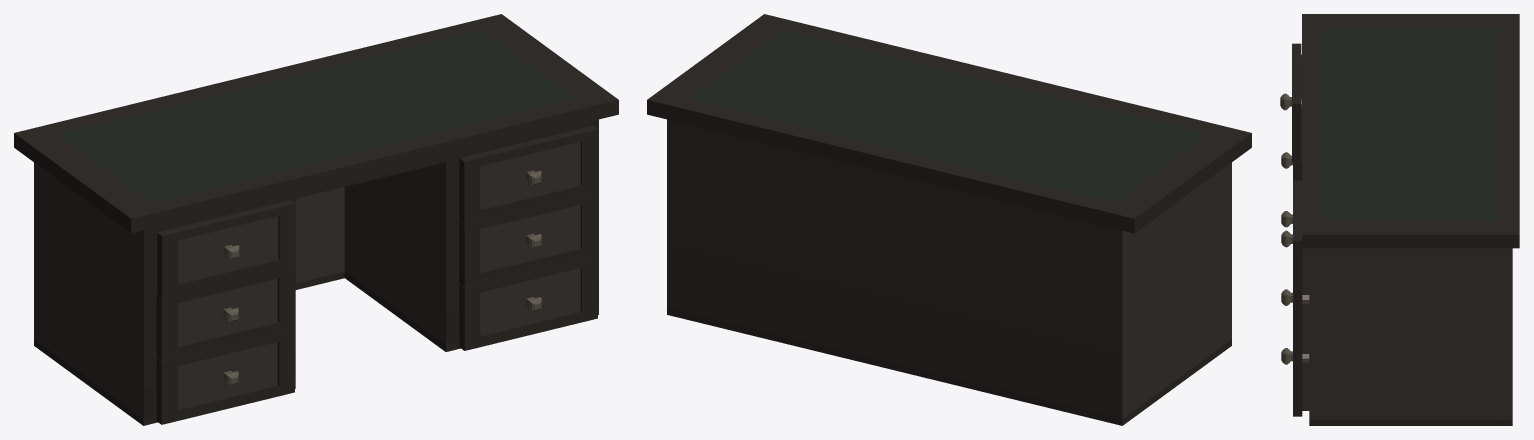
The model's file is DeskColour.fbx.
3 views of the same model, side by side, from view 1: azimuth 30°, elevation 25°; view 2: azimuth 150°, elevation 25°; view 3: azimuth 270°, elevation 25° (orthographic). The views are drawn at different scales.
Parts seen in each view (by area): view 1: Desk, Draw1, Draw6, Draw3, Draw4, Draw5, Draw2; view 2: Desk; view 3: Desk, Draw6, Draw1, Draw5, Draw4, Draw2.
Boxes of the visible parts, left/top/right/bottom form: Desk: left=14, top=14, right=618, bottom=425; Draw1: left=157, top=200, right=295, bottom=298; Draw6: left=459, top=125, right=597, bottom=224; Draw3: left=156, top=329, right=294, bottom=424; Draw4: left=459, top=255, right=597, bottom=350; Draw5: left=459, top=192, right=597, bottom=287; Draw2: left=156, top=266, right=295, bottom=361; Desk: left=647, top=14, right=1251, bottom=425; Desk: left=1302, top=14, right=1519, bottom=425; Draw6: left=1281, top=180, right=1309, bottom=299; Draw1: left=1280, top=43, right=1301, bottom=162; Draw5: left=1281, top=289, right=1309, bottom=357; Draw4: left=1281, top=348, right=1309, bottom=416; Draw2: left=1281, top=152, right=1301, bottom=180.
Size of the model in its own units: 147 by 61.8 by 67.57.
